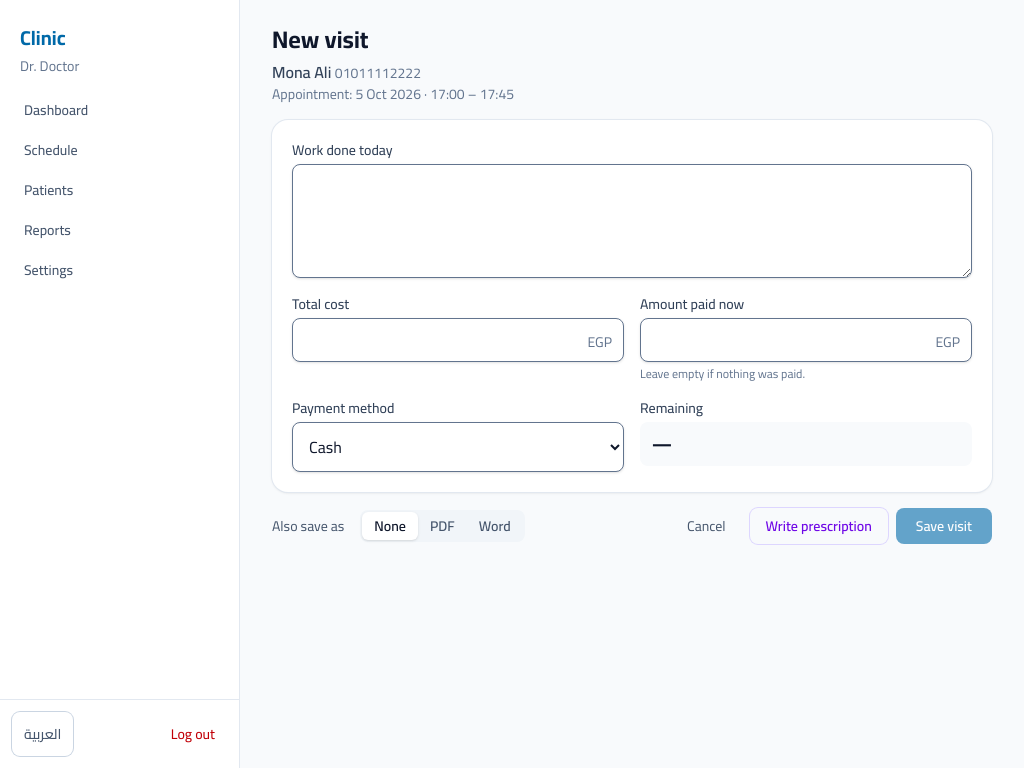
Test: VisitForm › "Write prescription" before the cost: writes it first and keeps the visit typed so far
In the text box labelled "Work done today": (632, 221) [292,164,972,278], type "Extraction"
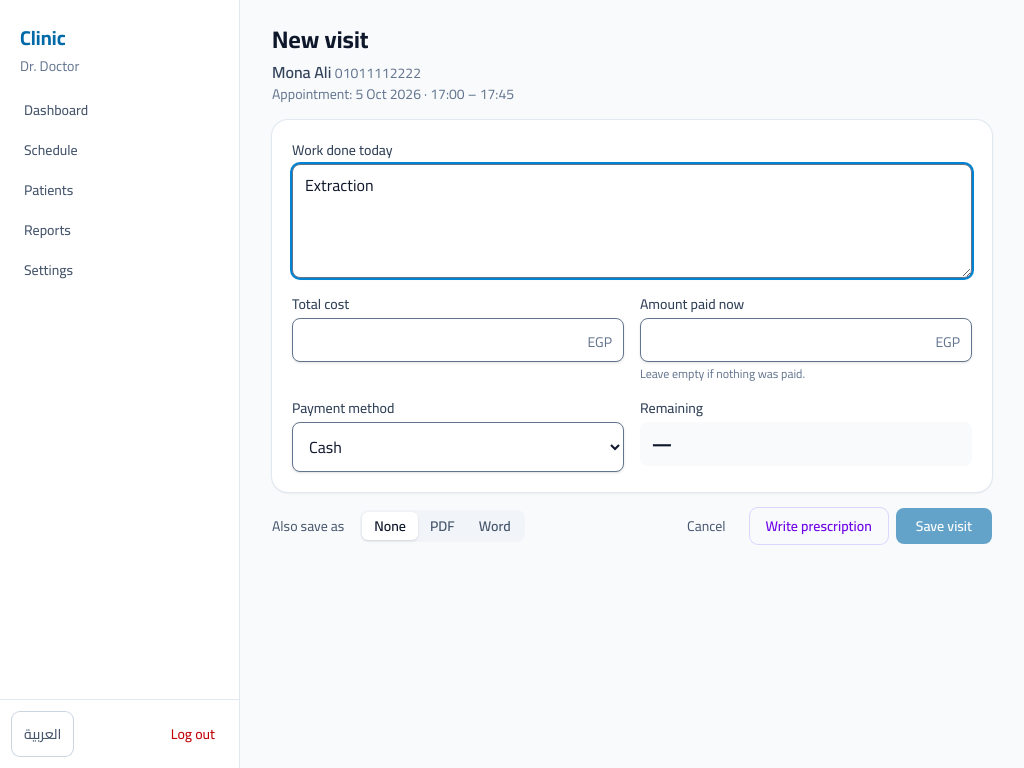
Check: the button "Save visit" is disabled, box [896,508,992,544]
Click the button "Write prescription": (819, 526) [750,508,888,544]
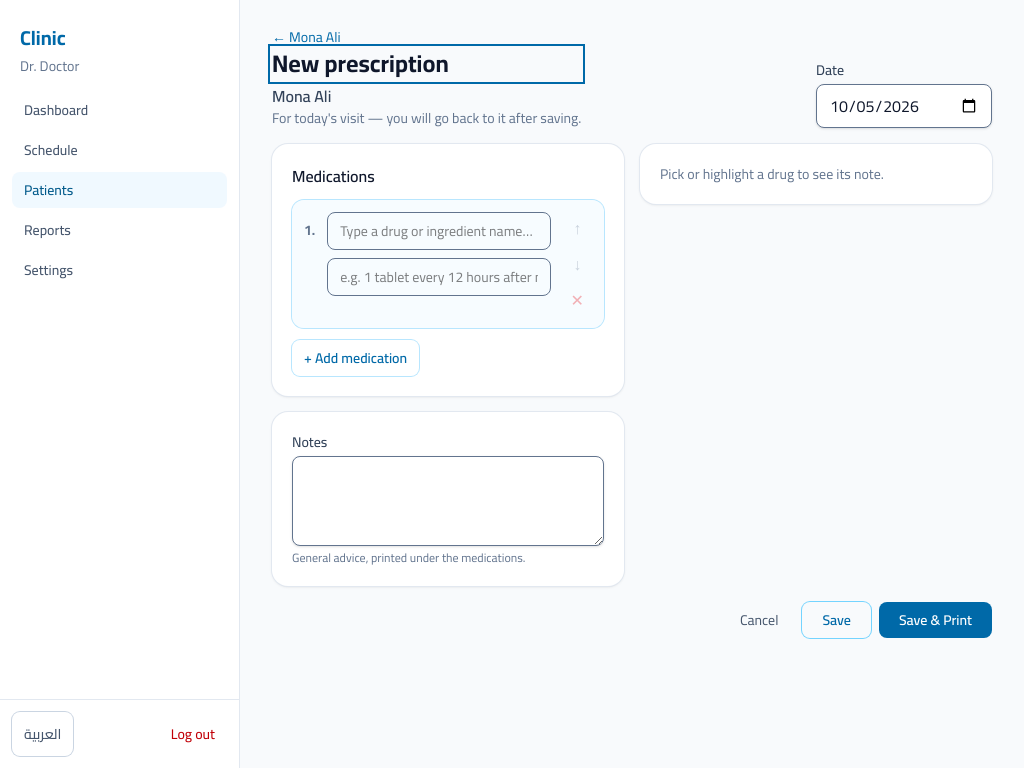
Check: the text "For today's visit — you will go back to it after saving." is shown, box [272,108,581,128]
